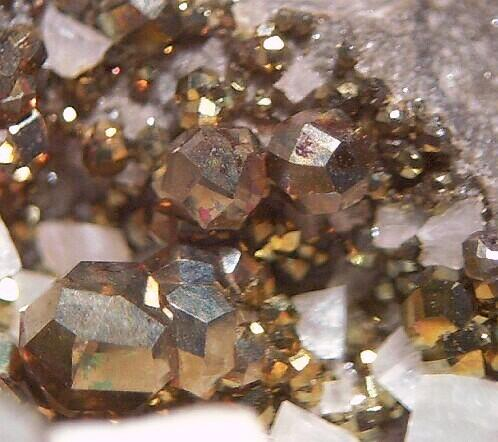pyrite: (154, 42, 461, 232), (19, 232, 311, 416), (414, 241, 498, 358)
